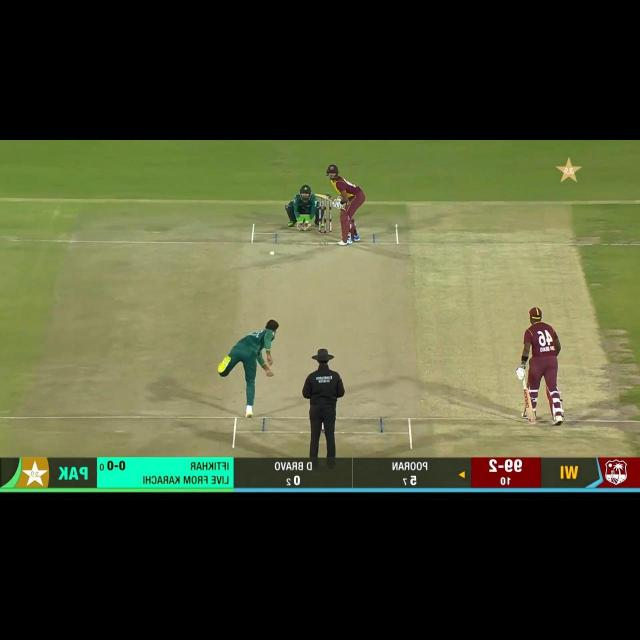bat: (522, 389, 537, 426), (314, 193, 336, 205)
toe: (526, 415, 537, 425), (314, 193, 322, 200)
